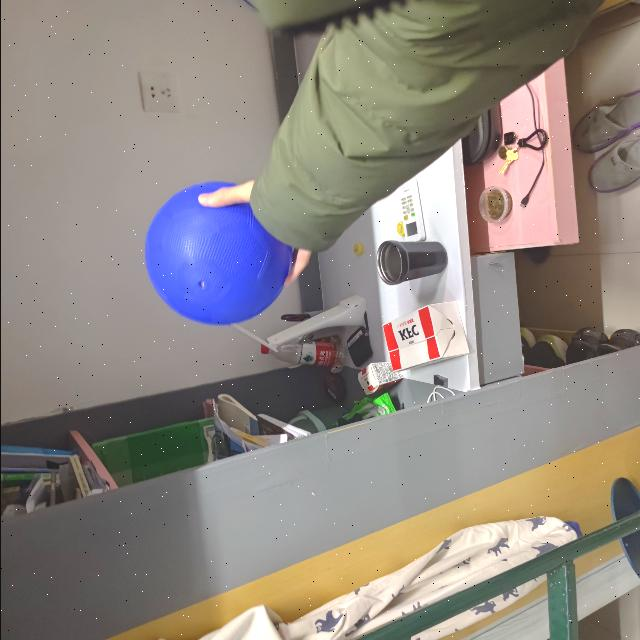B: (142, 196, 320, 330)
